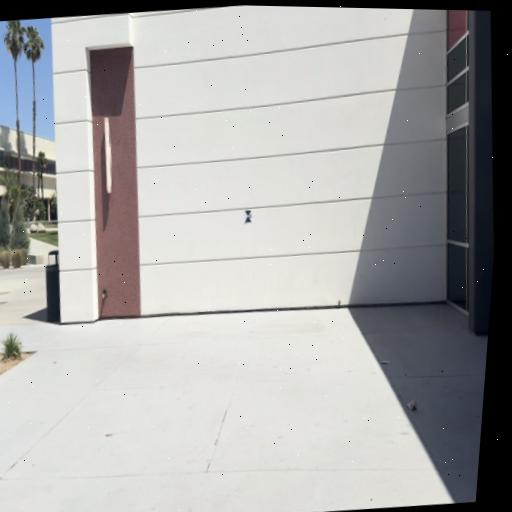target0: (243, 209, 253, 223)
